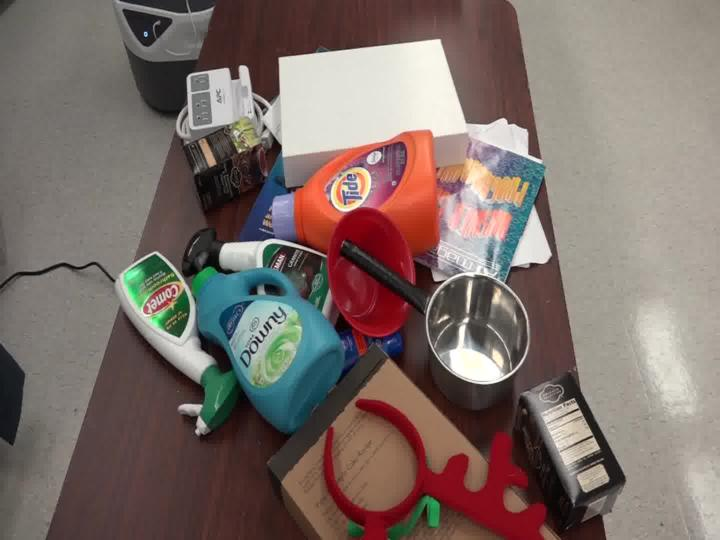tide: (256, 115, 456, 273)
